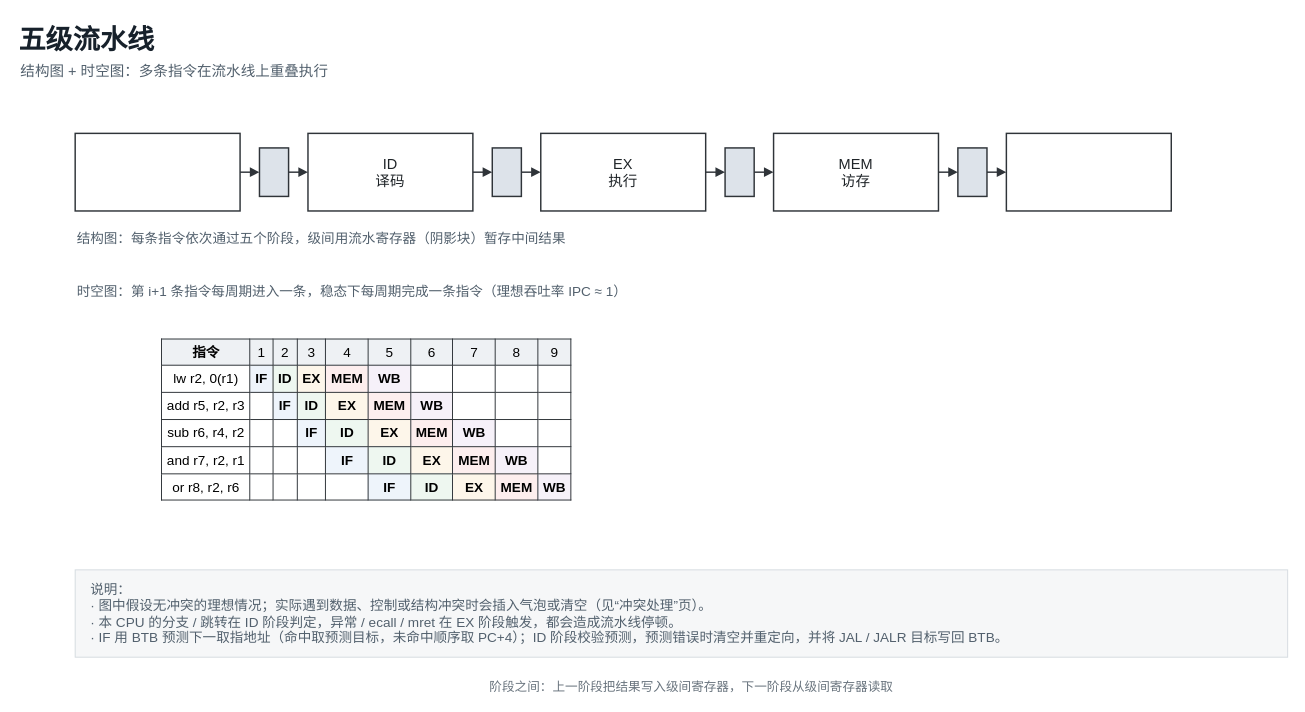
Some shapes in this 1305 by 712 pixel diagram are drawn without their labels. Each missing label, with the box of its shape:
IF 取指 （BTB 预测）: (74, 132, 240, 211)
WB 写回: (1005, 132, 1172, 211)
